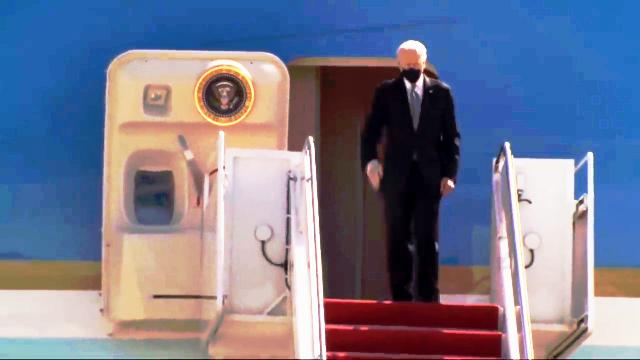berdiri: (356, 37, 464, 307)
